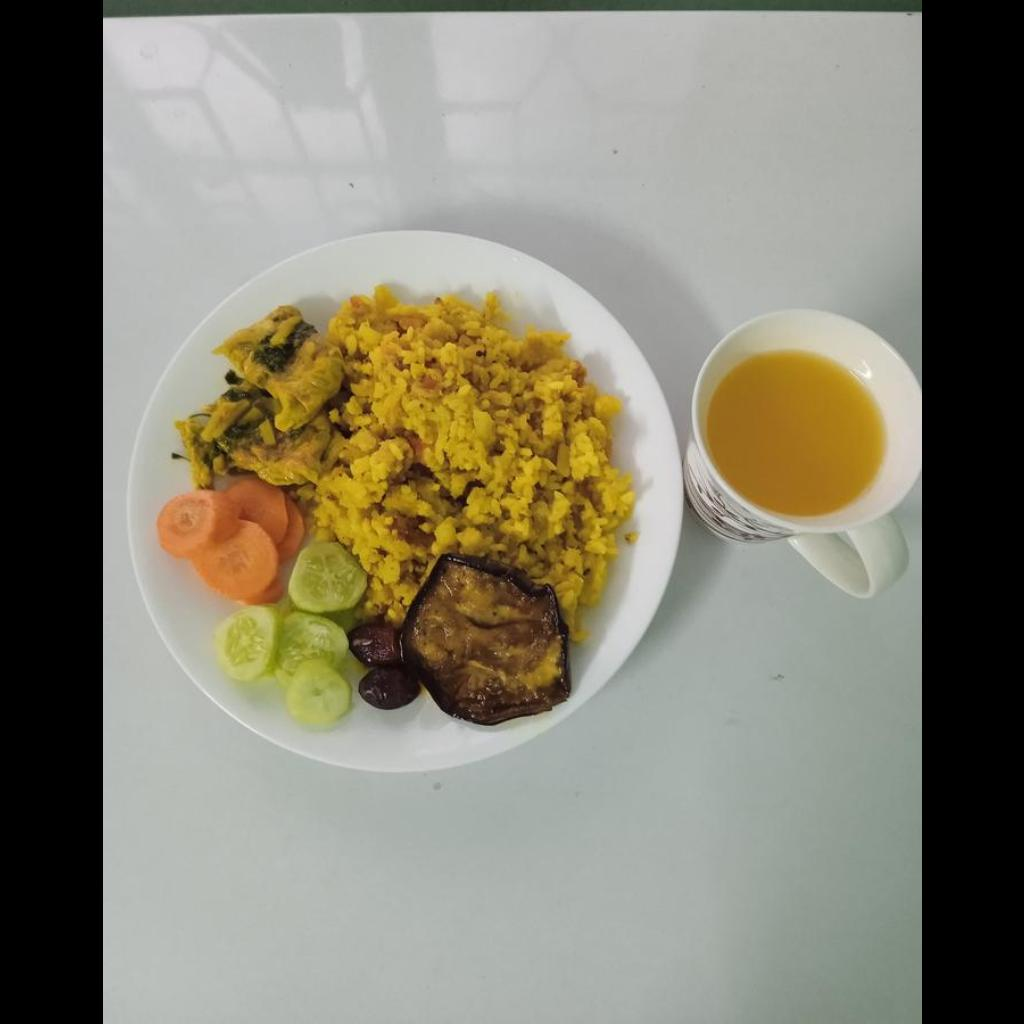begun-vaji: (401, 555, 568, 725)
carrot: (157, 477, 303, 604)
cauliflower: (173, 306, 344, 490)
cucumber: (214, 540, 365, 726)
dates: (347, 617, 419, 710)
juice: (708, 351, 880, 512)
khichuri: (295, 287, 634, 637)
